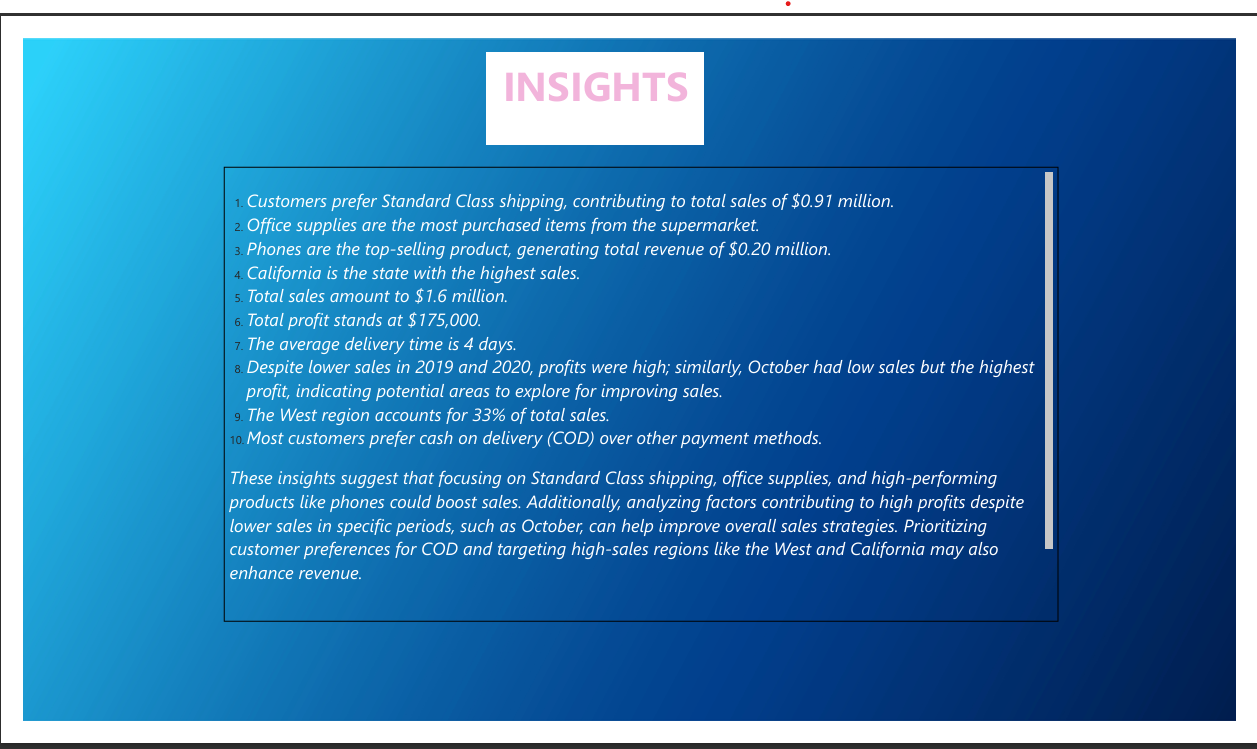

This screenshot's page, from the dashboard's own definition file:
{"tool":"powerbi","page":{"name":"INSIGHTS","canvas":[1280,720],"ordinal":3},"visuals":[{"type":"textbox","title":"INSIGHTS","box":[211.2,135,881.2,480],"z":0},{"type":"textbox","box":[488.8,15,230,97.5],"z":1}]}

Visuals, with their boxes on the page's 1280x720 design canvas (x1, y1, x2, y2). These are canvas units, not pixel positions in the 1257x749 screenshot, which may show the page scaled, cropped or inside an application window:
"INSIGHTS" textbox: rect(211, 135, 1092, 615)
textbox: rect(489, 15, 719, 112)
